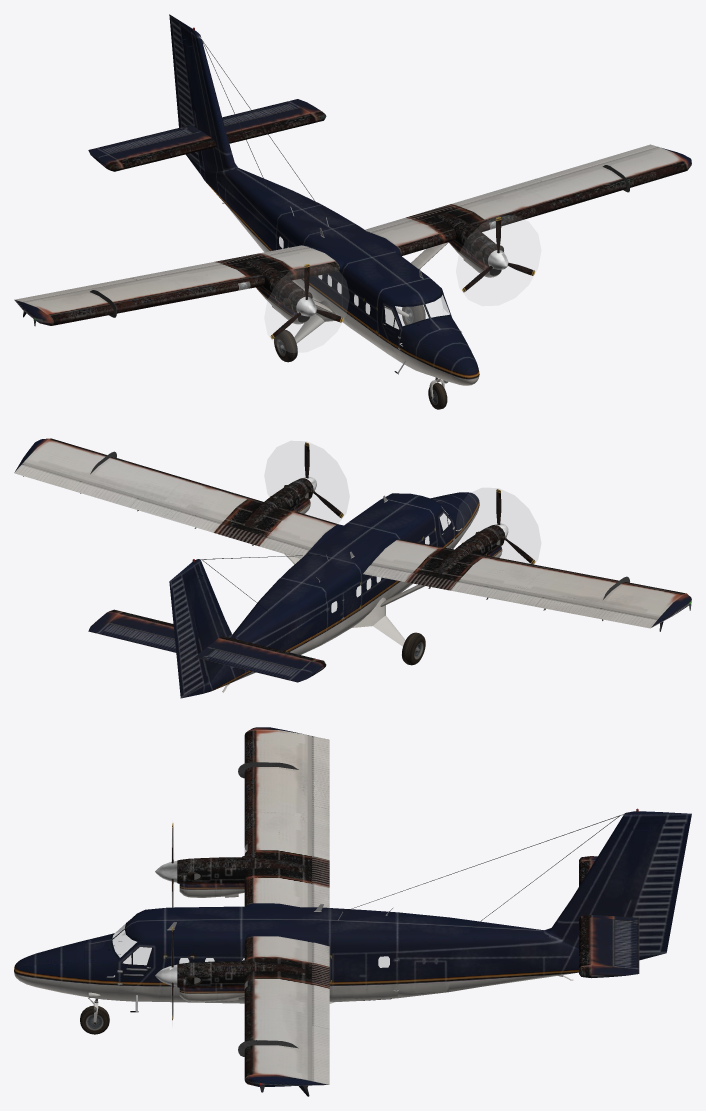
The model's file is DHC6.glb.
3 renders of one model, top to bottom at view 1: azimuth 30°, elevation 25°; view 2: azimuth 150°, elevation 25°; view 3: azimuth 270°, elevation 25°, orthographic. The views are drawn at different scales.
Parts seen in each view (by area): view 1: body, propeller_disc, propeller_disc_2, elevator, rudder, flap_left, flap_right, aileron_left; view 2: body, propeller_disc, propeller_disc_2, flap_left, flap_right, elevator, rudder, aileron_left, aileron_right; view 3: body, rudder, flap_right, flap_left, elevator, aileron_right, aileron_left.
Boxes of the visible parts, <box> form: body: <box>14,27,691,409</box>; propeller_disc: <box>456,216,540,305</box>; propeller_disc_2: <box>265,262,348,352</box>; elevator: <box>88,99,321,167</box>; rudder: <box>169,14,202,173</box>; flap_left: <box>365,147,659,233</box>; flap_right: <box>23,245,310,315</box>; aileron_left: <box>535,144,657,181</box>; body: <box>14,438,691,693</box>; propeller_disc: <box>265,441,349,523</box>; propeller_disc_2: <box>456,488,540,562</box>; flap_left: <box>22,462,311,558</box>; flap_right: <box>363,562,661,631</box>; elevator: <box>88,612,323,682</box>; rudder: <box>169,563,206,698</box>; aileron_left: <box>14,464,137,507</box>; aileron_right: <box>535,597,657,628</box>; body: <box>14,727,658,1096</box>; rudder: <box>624,811,691,960</box>; flap_right: <box>307,735,329,907</box>; flap_left: <box>303,942,329,1095</box>; elevator: <box>591,856,639,978</box>; aileron_right: <box>312,736,329,809</box>; aileron_left: <box>312,1025,329,1084</box>.
Size of the model in its own units: 19.57 by 5.8 by 15.75.
11 materials, 9 textured.
